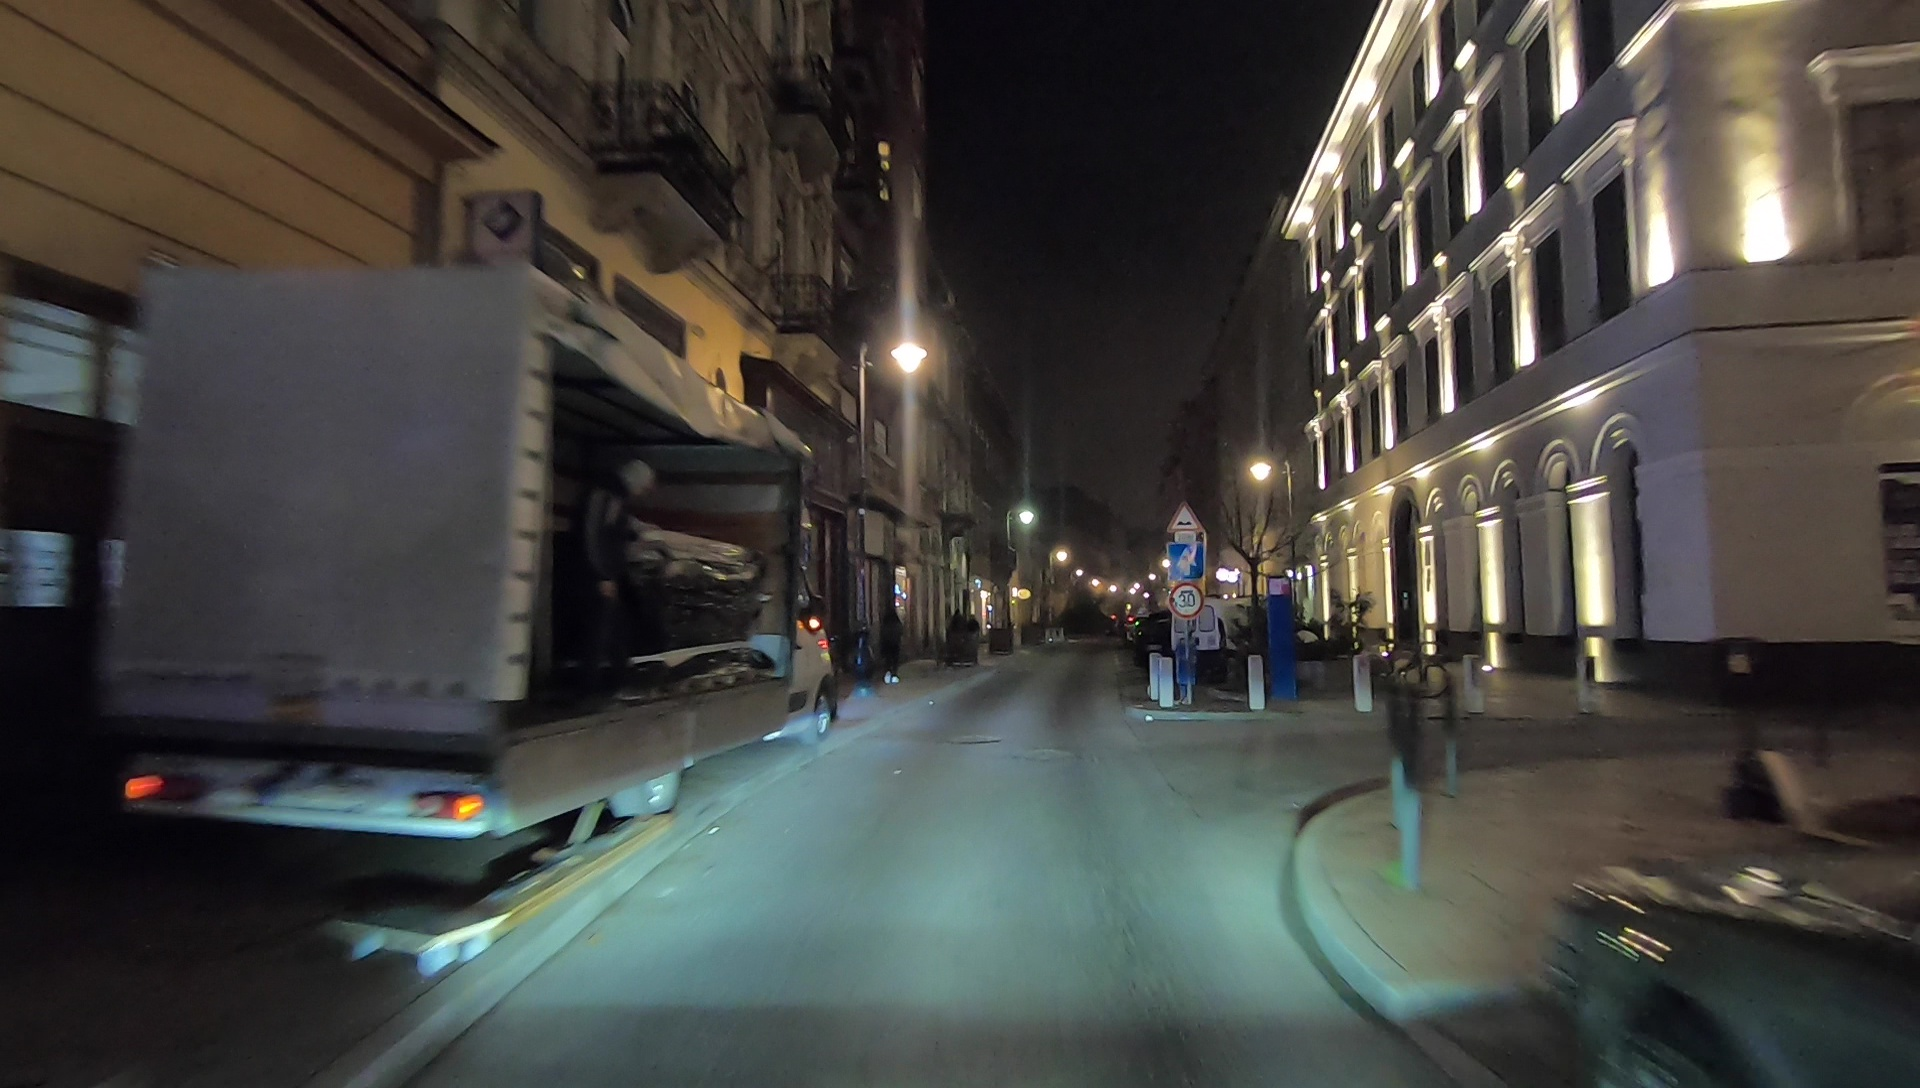person: (576, 443, 636, 679), (878, 604, 906, 689)
